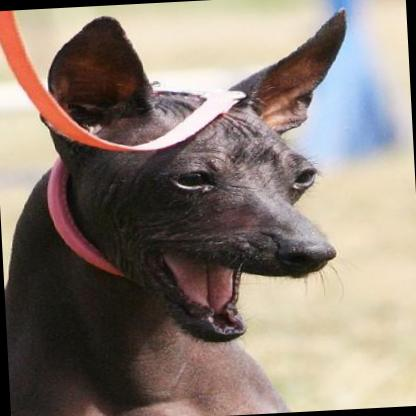Mexican_hairless: (0, 2, 368, 416)
